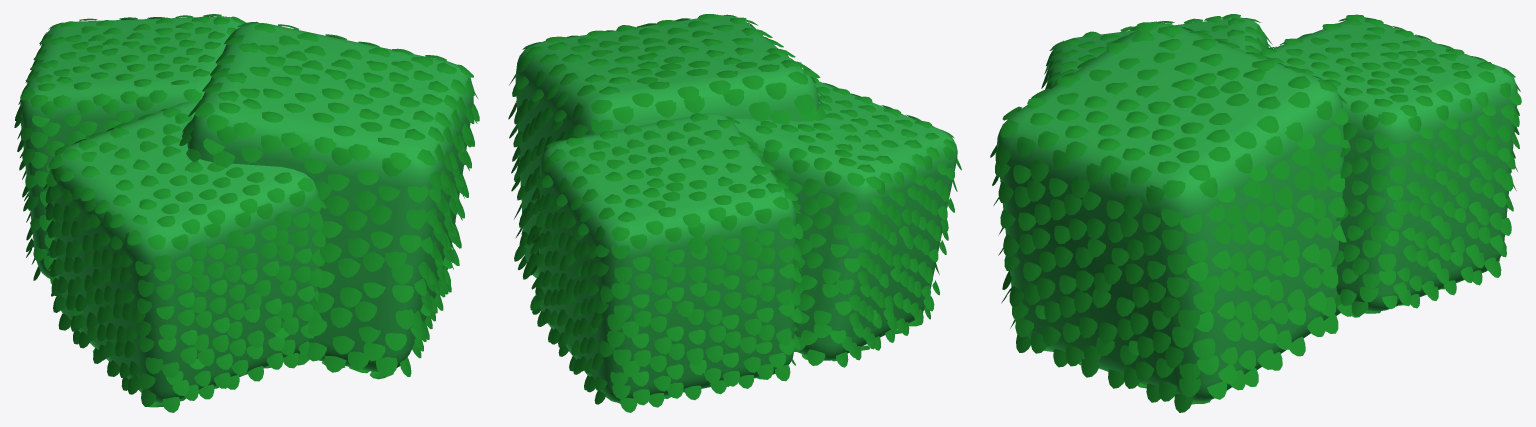
File: TreeLeaf2.fbx
3 renders of one model, left to right at view 1: azimuth 30°, elevation 25°; view 2: azimuth 150°, elevation 25°; view 3: azimuth 270°, elevation 25°, orthographic. The views are drawn at different scales.
Parts seen in each view (by area): view 1: Leaf_Geo.001, Leaf_Geo.002, TreeCube_Geo.002, TreeCube_Geo.001, TreeCube_Geo.003, Leaf_Geo.003; view 2: Leaf_Geo.003, TreeCube_Geo.003, Leaf_Geo.001, TreeCube_Geo.001, TreeCube_Geo.002, Leaf_Geo.002; view 3: Leaf_Geo.002, TreeCube_Geo.002, Leaf_Geo.003, TreeCube_Geo.003, TreeCube_Geo.001, Leaf_Geo.001.
Boxes of the visible parts, left/top/right/bottom form: Leaf_Geo.001: left=43, top=108, right=326, bottom=412; Leaf_Geo.002: left=179, top=21, right=479, bottom=379; TreeCube_Geo.002: left=187, top=23, right=473, bottom=371; TreeCube_Geo.001: left=49, top=99, right=320, bottom=403; TreeCube_Geo.003: left=20, top=16, right=242, bottom=278; Leaf_Geo.003: left=14, top=14, right=245, bottom=284; Leaf_Geo.003: left=530, top=113, right=803, bottom=412; TreeCube_Geo.003: left=538, top=113, right=795, bottom=402; Leaf_Geo.001: left=747, top=77, right=961, bottom=367; TreeCube_Geo.001: left=734, top=81, right=957, bottom=360; TreeCube_Geo.002: left=515, top=15, right=818, bottom=278; Leaf_Geo.002: left=508, top=14, right=826, bottom=294; Leaf_Geo.002: left=990, top=21, right=1359, bottom=412; TreeCube_Geo.002: left=997, top=22, right=1343, bottom=401; Leaf_Geo.003: left=1261, top=14, right=1521, bottom=316; TreeCube_Geo.003: left=1260, top=18, right=1517, bottom=311; TreeCube_Geo.001: left=1047, top=18, right=1268, bottom=88; Leaf_Geo.001: left=1041, top=14, right=1272, bottom=92.
Size of the model in its own units: 249 by 155 by 275.
